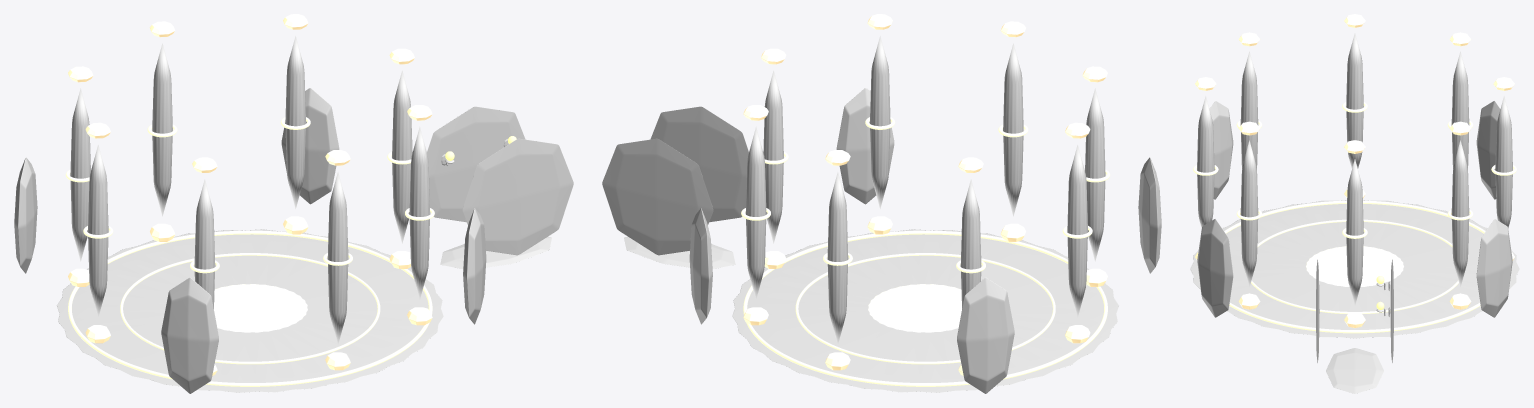
Rendered from floor_hub_spoke_r2_v3.glb.
3 renders of one model, left to right at view 1: azimuth 30°, elevation 25°; view 2: azimuth 150°, elevation 25°; view 3: azimuth 270°, elevation 25°, orthographic. The views are drawn at different scales.
Parts seen in each view (by area): view 1: hs_floor, hs_sp_w2, hs_sp_w1, hs_w_5, hs_disc, hs_w_1, hs_ring1, hs_p_2_s, hs_p_1_s, hs_p_4_s, hs_p_7_s, hs_p_6_s (+7 smaller); view 2: hs_floor, hs_sp_w1, hs_sp_w2, hs_w_3, hs_disc, hs_w_7, hs_ring1, hs_p_6_s, hs_p_7_s, hs_p_1_s, hs_p_4_s, hs_p_2_s (+7 smaller); view 3: hs_floor, hs_w_7, hs_w_1, hs_disc, hs_sp_floor, hs_p_0_s, hs_p_1_s, hs_p_7_s, hs_p_6_s, hs_p_2_s, hs_ring1, hs_p_4_s (+7 smaller).
Part boxes in pixels (x1,y1,x2,y2): hs_floor: (57,229,443,392); hs_sp_w2: (462,138,573,255); hs_sp_w1: (427,106,525,222); hs_w_5: (161,277,218,393); hs_disc: (214,284,307,332); hs_w_1: (281,88,339,204); hs_ring1: (68,230,432,386); hs_p_2_s: (152,43,172,216); hs_p_1_s: (285,36,305,208); hs_p_4_s: (88,145,108,317); hs_p_7_s: (409,126,430,299); hs_p_6_s: (327,172,348,344); hs_floor: (732,229,1118,392); hs_sp_w1: (602,138,713,255); hs_sp_w2: (650,106,748,222); hs_w_3: (957,277,1014,393); hs_disc: (868,284,961,332); hs_w_7: (836,88,894,204); hs_ring1: (743,230,1107,386); hs_p_6_s: (1003,43,1023,216); hs_p_7_s: (870,36,890,208); hs_p_1_s: (745,126,766,299); hs_p_4_s: (1067,145,1087,317); hs_p_2_s: (827,172,848,344); hs_floor: (1190,200,1519,338); hs_w_7: (1197,219,1233,317); hs_w_1: (1476,219,1512,317); hs_disc: (1306,246,1403,286); hs_sp_floor: (1326,348,1383,393); hs_p_0_s: (1346,159,1363,305); hs_p_1_s: (1451,140,1469,287); hs_p_7_s: (1240,140,1258,287); hs_p_6_s: (1197,96,1214,228); hs_p_2_s: (1495,96,1512,228); hs_ring1: (1224,200,1485,333); hs_p_4_s: (1346,33,1363,168).
Bounding box in the file's own units: 10.5 × 4.82 × 7.51.
